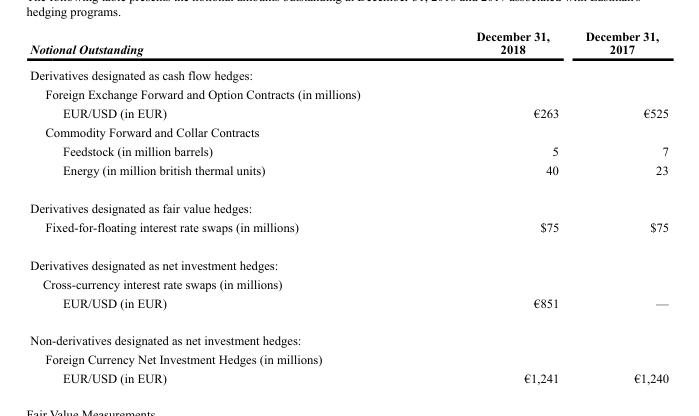table: (29, 28, 668, 385)
table column: (29, 28, 386, 385), (386, 28, 571, 385), (571, 28, 668, 385)
table column header: (29, 28, 668, 61)
table projected row header: (29, 188, 668, 217), (29, 245, 668, 273), (29, 321, 668, 349), (29, 61, 668, 84), (29, 84, 668, 103), (29, 122, 668, 141), (29, 273, 668, 292), (29, 349, 668, 368)
table row: (29, 28, 668, 61), (29, 188, 668, 217), (29, 292, 668, 321), (29, 160, 668, 188), (29, 217, 668, 245), (29, 245, 668, 273), (29, 321, 668, 349), (29, 61, 668, 84), (29, 84, 668, 103), (29, 103, 668, 122), (29, 122, 668, 141), (29, 141, 668, 160), (29, 273, 668, 292), (29, 349, 668, 368), (29, 368, 668, 385)
